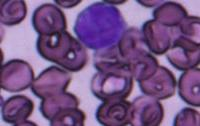L: (74, 1, 128, 53)
